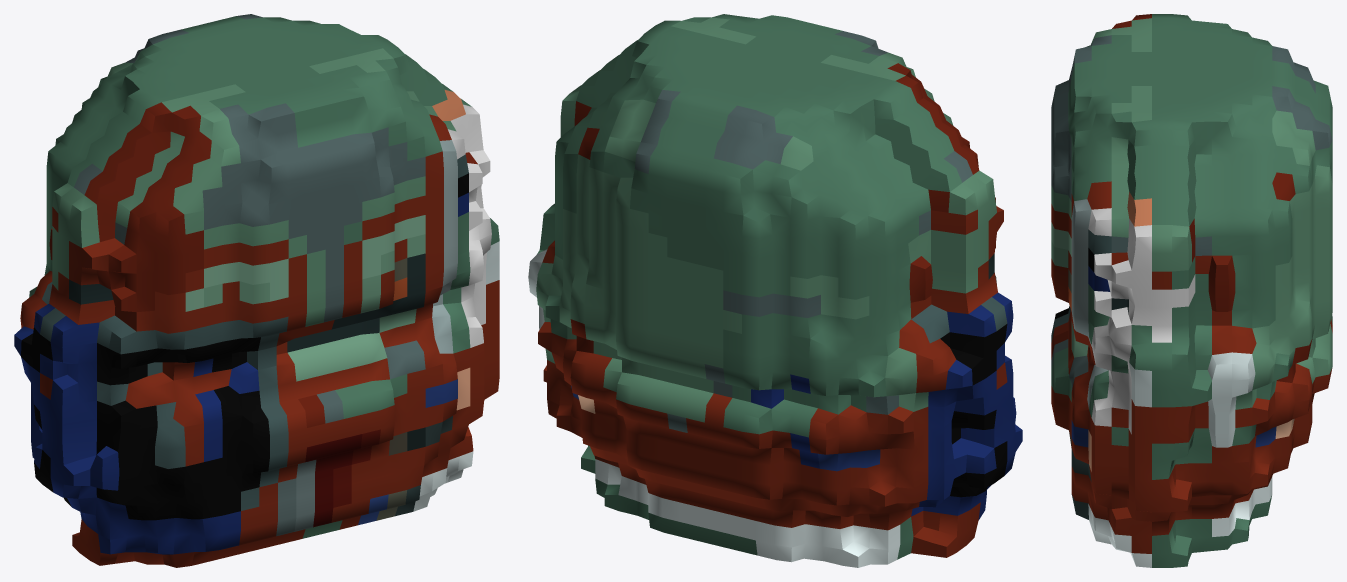
File: Icon_703_01.obj
3 renders of one model, left to right at view 1: azimuth 30°, elevation 25°; view 2: azimuth 150°, elevation 25°; view 3: azimuth 270°, elevation 25°, orthographic. The views are drawn at different scales.
Bounding box in the file's own units: 2.4 × 2.3 × 1.4.
